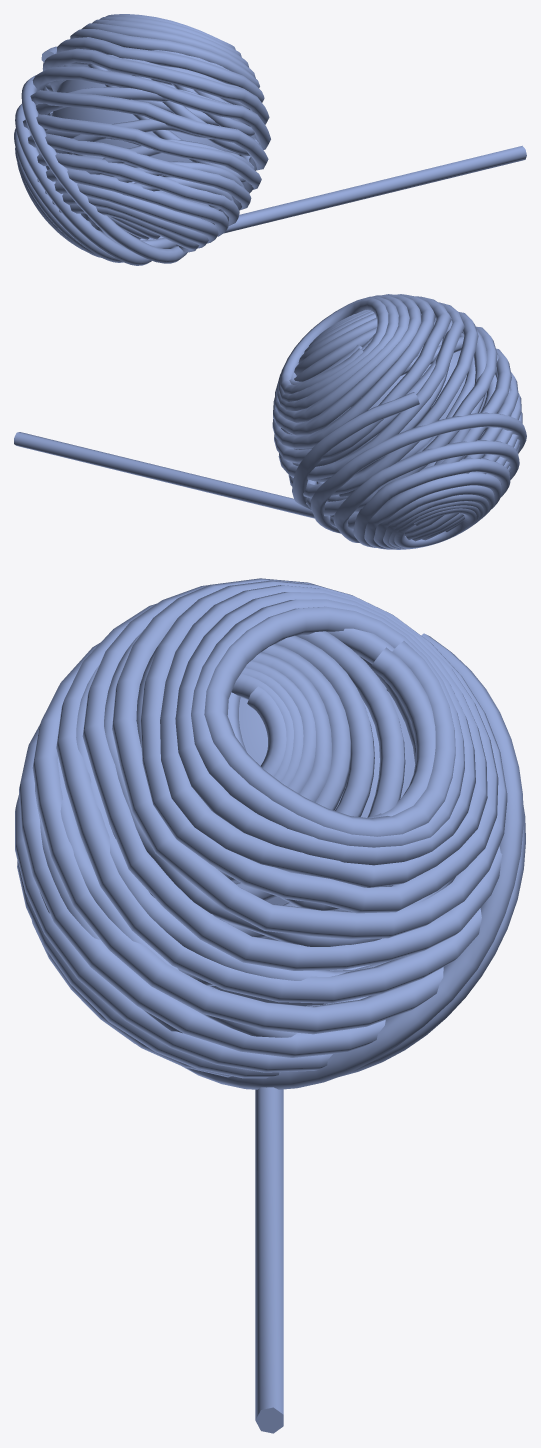
The picture shows the model from 3 angles, top to bottom: view 1: azimuth 30°, elevation 25°; view 2: azimuth 150°, elevation 25°; view 3: azimuth 270°, elevation 25°; orthographic projection. The views are drawn at different scales.
Visible parts, largest first — view 1: Sweep_4_1, Sweep_2_0, Sweep_3_2, Sweep_2, Sphere, Sweep_1_3, Sweep_4, Sweep_2_5; view 2: Sweep_4_1, Sweep_2_0, Sweep_2, Sweep_1_3, Sweep_3_2, Sweep_4, Sphere; view 3: Sweep_4_1, Sweep_1_3, Sweep_3_2, Sweep_2_0, Sweep_2, Sphere.
Boxes of the visible parts, left/top/right/bottom form: Sweep_4_1: left=23, top=14, right=270, bottom=252; Sweep_2_0: left=14, top=46, right=187, bottom=265; Sweep_3_2: left=36, top=50, right=261, bottom=248; Sweep_2: left=224, top=145, right=526, bottom=233; Sphere: left=49, top=80, right=239, bottom=206; Sweep_1_3: left=88, top=64, right=258, bottom=182; Sweep_4: left=37, top=65, right=254, bottom=222; Sweep_2_5: left=45, top=111, right=160, bottom=239; Sweep_4_1: left=272, top=294, right=522, bottom=541; Sweep_2_0: left=292, top=392, right=526, bottom=549; Sweep_2: left=14, top=432, right=314, bottom=518; Sweep_1_3: left=294, top=309, right=464, bottom=381; Sweep_3_2: left=281, top=313, right=511, bottom=517; Sweep_4: left=293, top=318, right=497, bottom=501; Sphere: left=324, top=339, right=486, bottom=482; Sweep_4_1: left=15, top=578, right=507, bottom=1078; Sweep_1_3: left=108, top=631, right=415, bottom=985; Sweep_3_2: left=35, top=628, right=455, bottom=1037; Sweep_2_0: left=182, top=633, right=525, bottom=1089; Sweep_2: left=255, top=1087, right=283, bottom=1433; Sphere: left=210, top=681, right=415, bottom=1005.
Size of the model in its own units: 0.00767 by 0.00345 by 0.00345.
